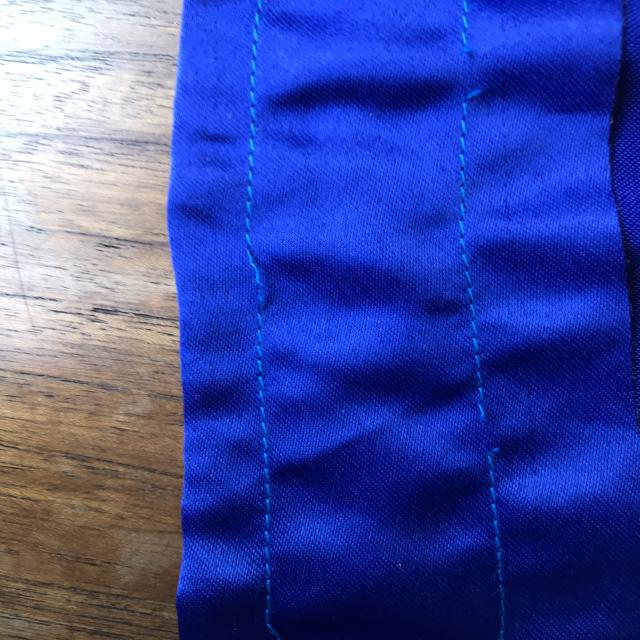broken: (456, 382, 520, 468), (443, 31, 500, 118)
good: (237, 388, 295, 532), (448, 182, 495, 304)
skip: (222, 230, 278, 323)
